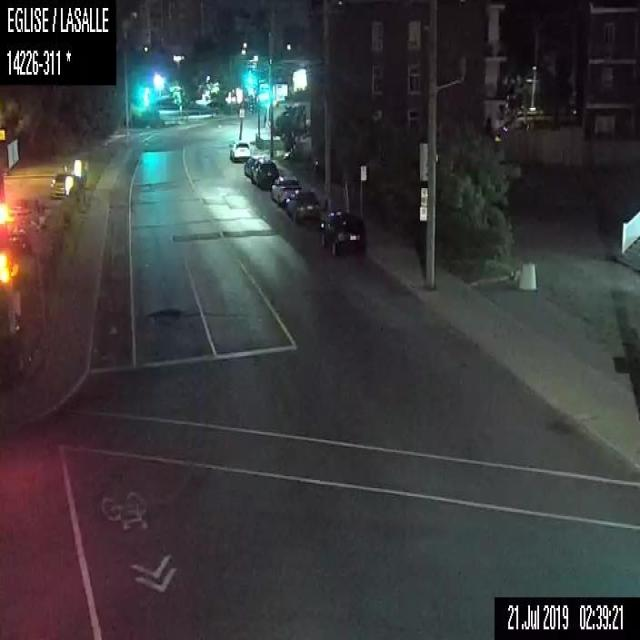vehicle: (320, 208, 366, 256), (284, 186, 324, 225), (248, 156, 280, 188), (270, 174, 302, 206), (48, 164, 78, 196), (229, 140, 250, 160), (242, 153, 261, 175)
